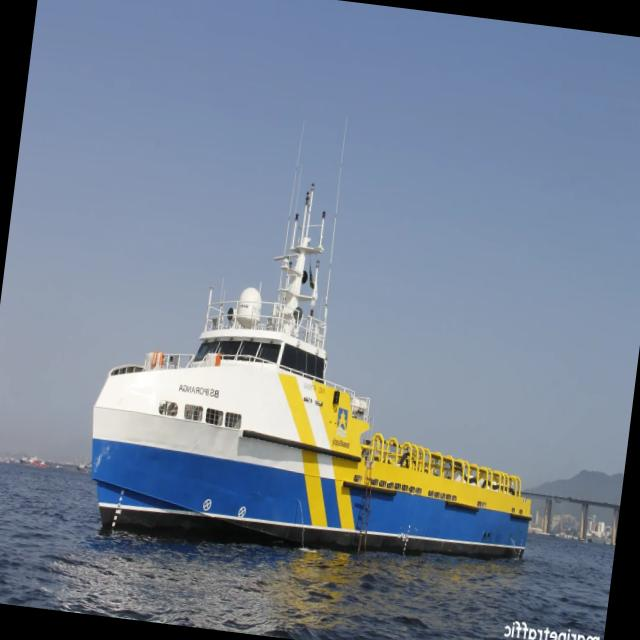Offshore: (91, 184, 529, 557)
